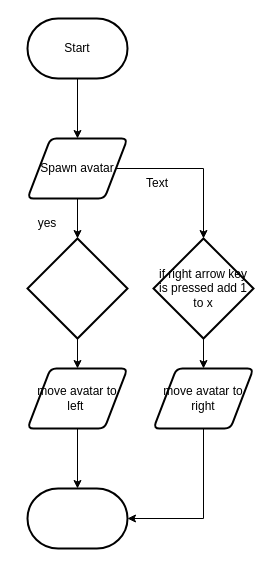
Some shapes in this 271 by 566 pixel diagram are drawn without their labels. Here are the shapes that lost their labels. From the top down, the centre of each, then its label:
point 77,288: if left arrow key is pressed subtract 1 from x
point 77,518: Stop
